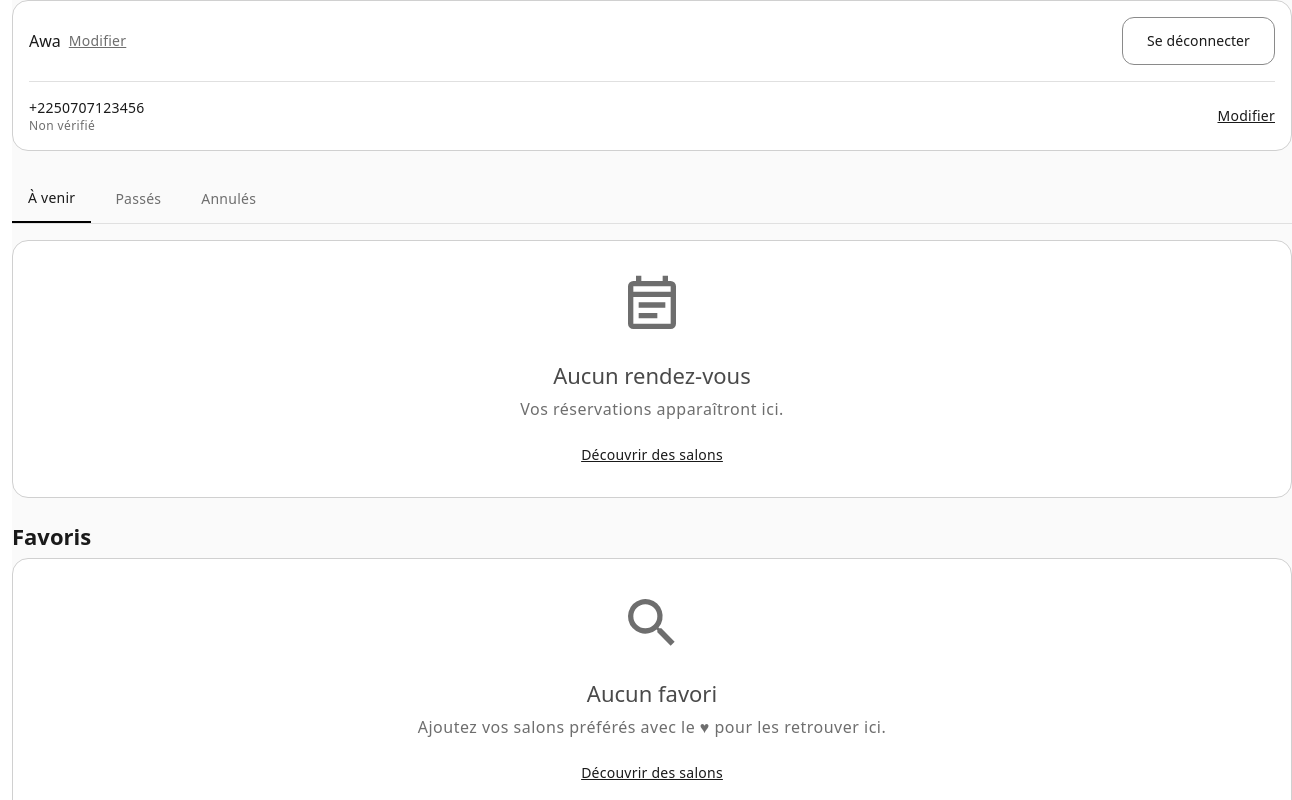
« Mon compte » — editing the contact phone › a typed short number: the fault is under the field — nothing is sent
Click the button "Modifier" in the row of "+2250707123456": click(1246, 116) top-left (1218, 106), bottom-right (1275, 126)
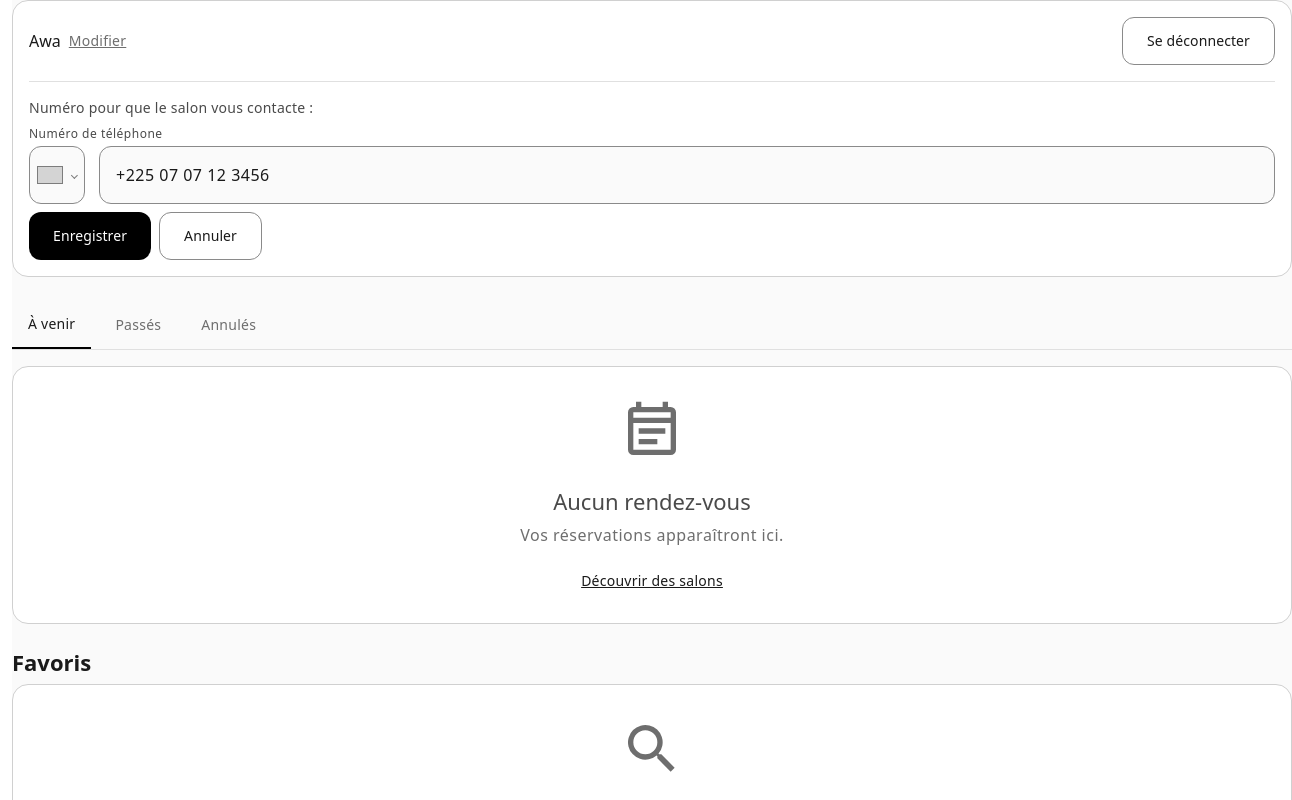
Replace the text in the field labelled "Numéro de téléphone" with "+2250700000": (687, 175) top-left (99, 146), bottom-right (1275, 204)
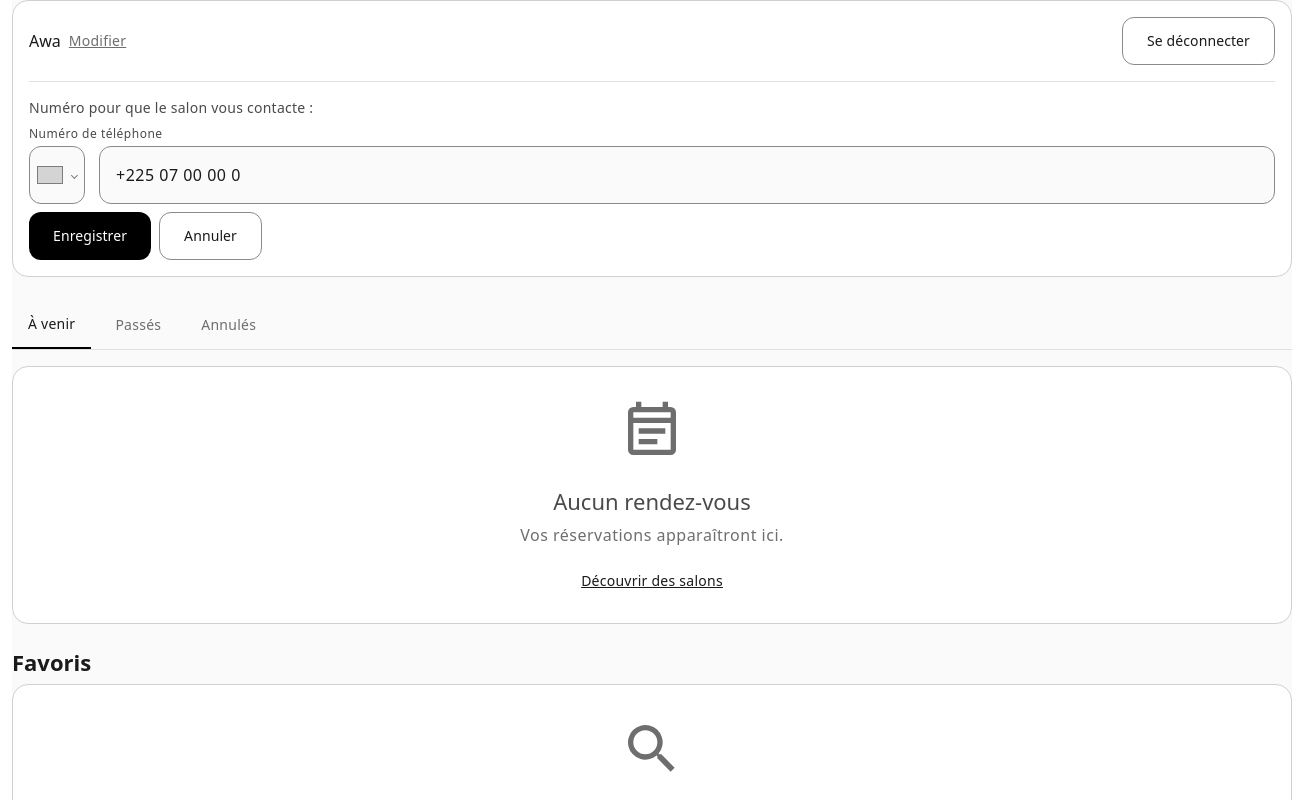
Now the button "Enregistrer" is enabled
Click the button "Enregistrer": click(90, 236) top-left (29, 212), bottom-right (151, 260)
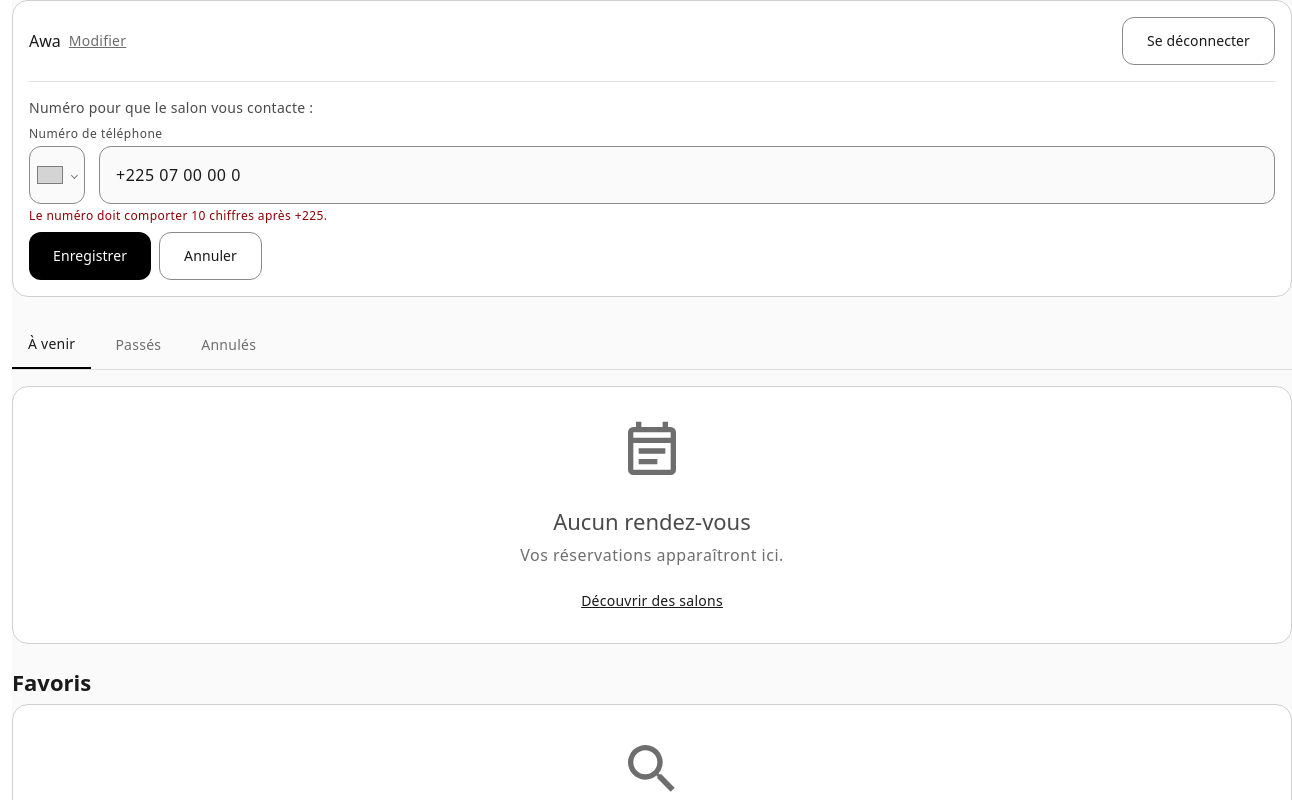
Now the text "Le numéro doit comporter 10 chiffres après +225." is shown, box top-left (29, 207), bottom-right (327, 224)
